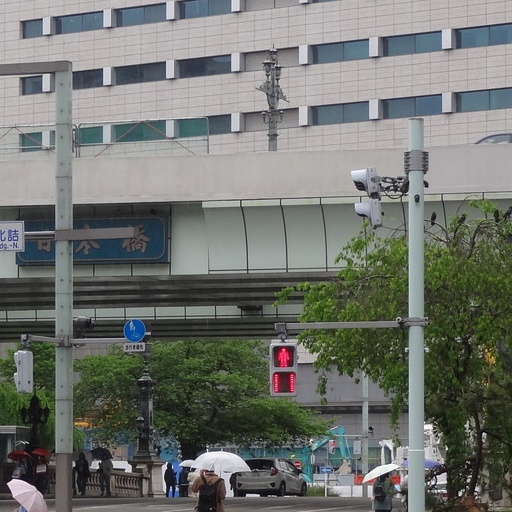Pedestrian_Signal_Red: (264, 333, 306, 398)
